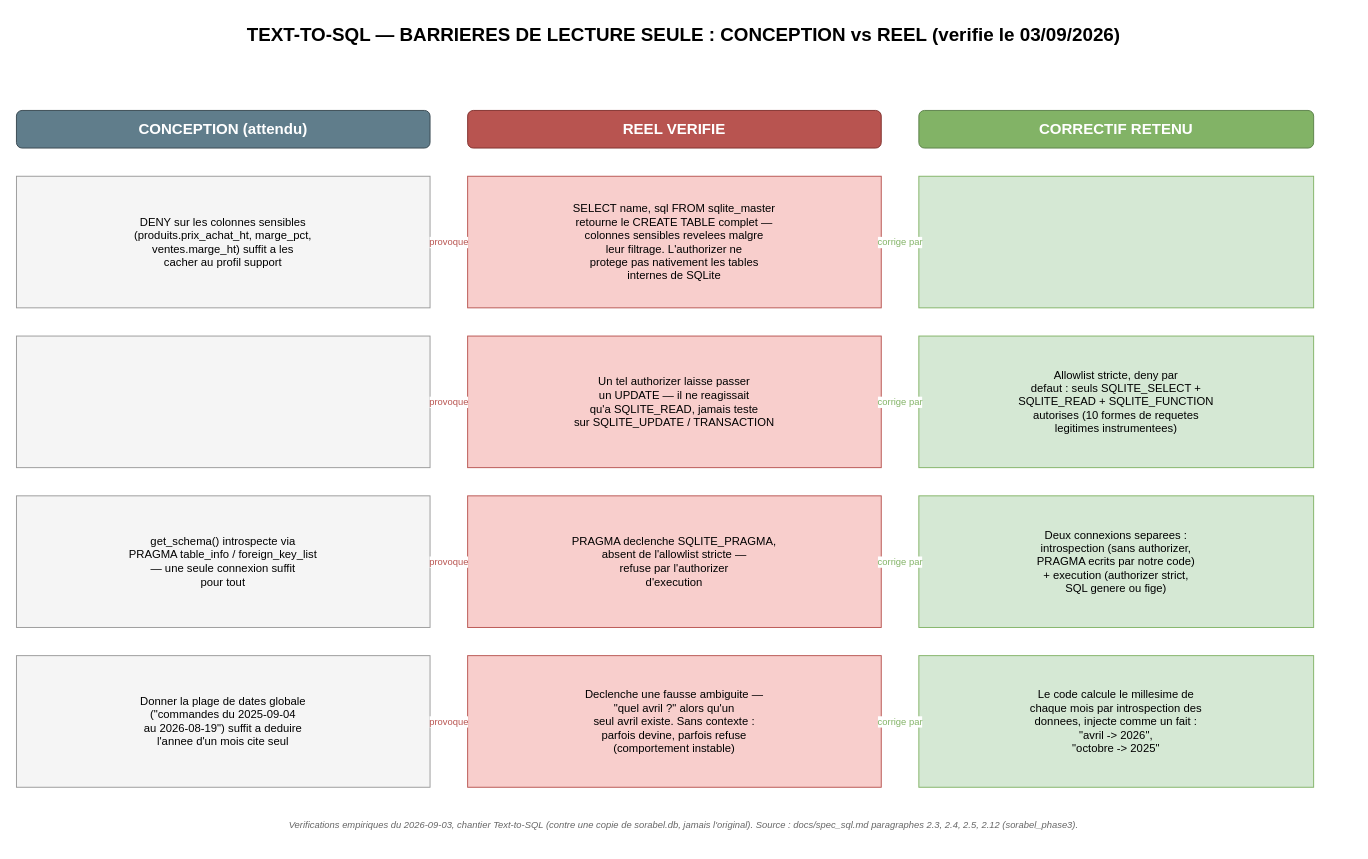
This 1368x859 diagram has some shape labels left out. Here are the shapes that lost their labels. From the top down, the centre of each, then its label:
point 1116,241: DENY sur toute lecture de table dont le nom commence par "sqlite_"
point 223,401: Un authorizer qui refuse les colonnes sensibles protege la lecture seule
